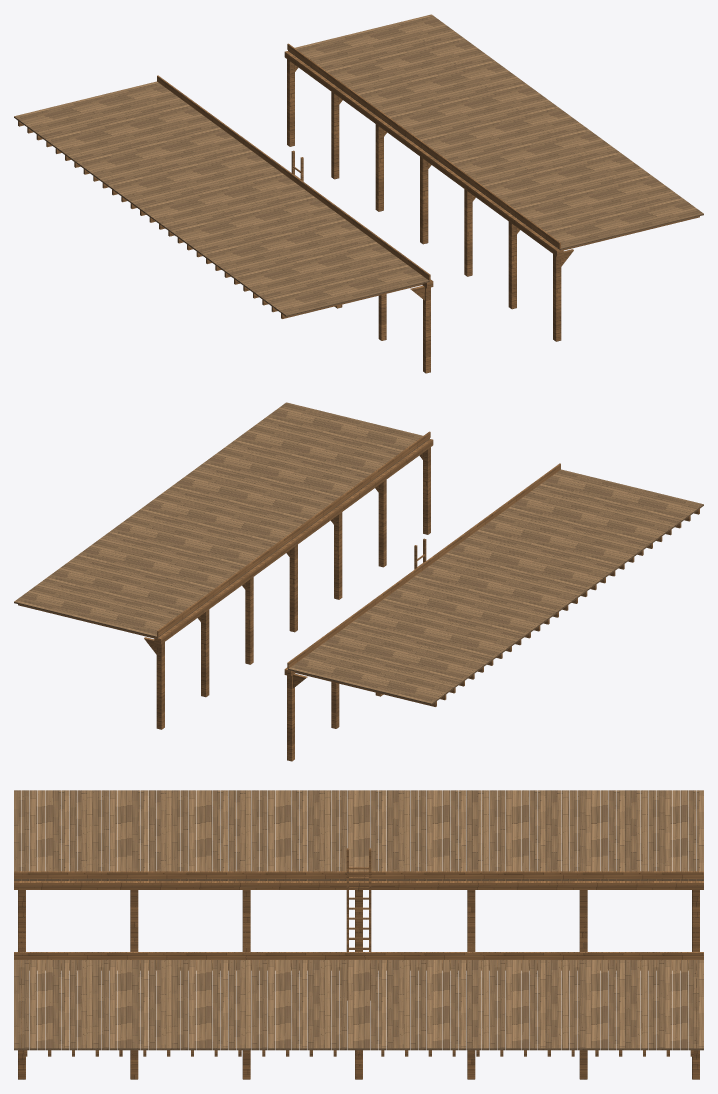
File: lofts.glb
3 views of the same model, one above another, from view 1: azimuth 30°, elevation 25°; view 2: azimuth 150°, elevation 25°; view 3: azimuth 270°, elevation 25° (orthographic). The views are drawn at different scales.
Visible parts, largest first — view 1: lofts_planks, lofts_wood; view 2: lofts_planks, lofts_wood; view 3: lofts_planks, lofts_wood.
Part boxes in pixels (left/top/right/bottom): lofts_planks: left=14, top=14, right=703, bottom=316; lofts_wood: left=18, top=43, right=699, bottom=373; lofts_planks: left=14, top=402, right=703, bottom=704; lofts_wood: left=18, top=431, right=699, bottom=761; lofts_planks: left=14, top=790, right=703, bottom=1050; lofts_wood: left=14, top=848, right=703, bottom=1079.
Size of the model in its own units: 15.4 by 4.2 by 17.4.
2 materials, 2 textured.
